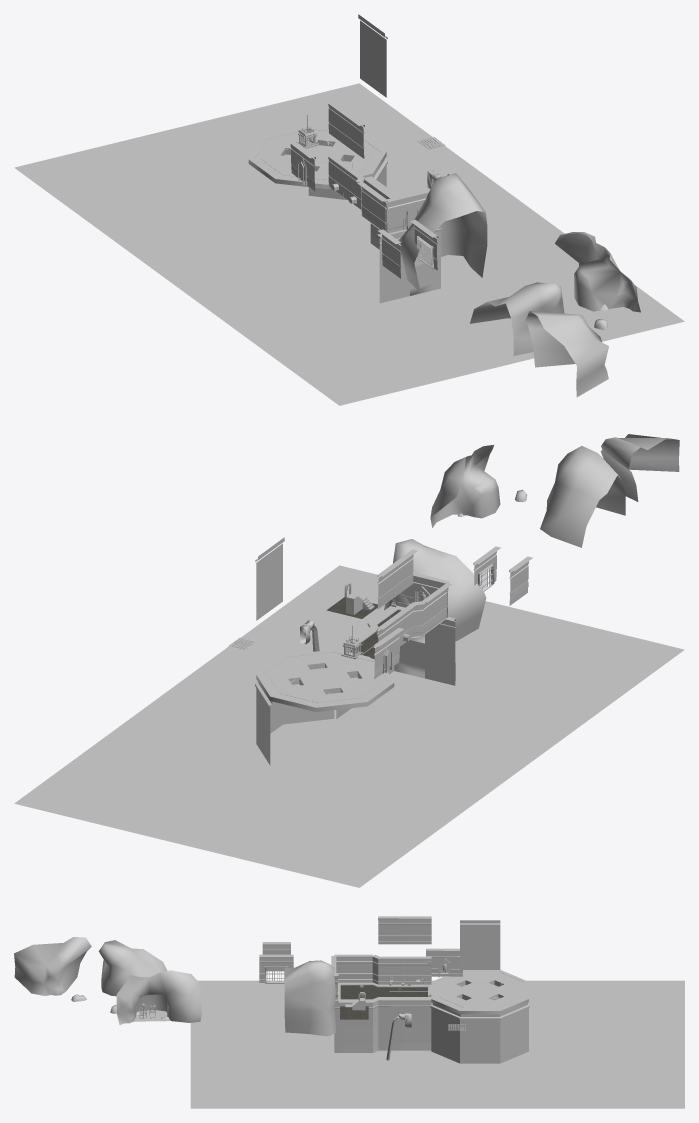
Rendered from S7_3d_dilao_qiang_001.FBX.
3 renders of one model, top to bottom at view 1: azimuth 30°, elevation 25°; view 2: azimuth 150°, elevation 25°; view 3: azimuth 270°, elevation 25°, orthographic. The views are drawn at different scales.
Visible parts, largest first — view 1: S7_3d_dilao_dimian_005, S7_3d_dilao_shitou_001, S7_3d_dilao_shitou_002, S7_3d_dilao_ditai_001, S7_3d_dilao_shitou_006, S7_3d_dilao_shitou_003, S7_3d_dilao_qiang_001, S7_3d_dilao_qiang_013, S7_3d_dilao_qiang_012, S7_3d_dilao_qiang_011, S7_3d_dilao_qiang_003, S7_3d_dilao_qiang_010 (+3 smaller); view 2: S7_3d_dilao_dimian_005, S7_3d_dilao_ditai_001, S7_3d_dilao_shitou_003, S7_3d_dilao_shitou_001, S7_3d_dilao_shitou_006, S7_3d_dilao_qiang_001, S7_3d_dilao_shitou_002, S7_3d_dilao_qiang_009 (×2), S7_3d_dilao_qiang_013, S7_3d_dilao_qiang_012, S7_3d_dilao_qiang_003, S7_3d_dilao_qiang_005 (+3 smaller); view 3: S7_3d_dilao_dimian_005, S7_3d_dilao_qiang_009 (×2), S7_3d_dilao_qiang_001, S7_3d_dilao_shitou_006, S7_3d_dilao_ditai_001, S7_3d_dilao_shitou_001, S7_3d_dilao_shitou_002, S7_3d_dilao_shitou_003, S7_3d_dilao_qiang_013, S7_3d_dilao_qiang_003, S7_3d_dilao_qiang_012, S7_3d_dilao_qiang_010 (+5 smaller).
Boxes of the visible parts, <box> form: S7_3d_dilao_dimian_005: <box>14,83,684,405</box>; S7_3d_dilao_shitou_001: <box>398,173,487,292</box>; S7_3d_dilao_shitou_002: <box>525,311,608,397</box>; S7_3d_dilao_ditai_001: <box>248,126,386,189</box>; S7_3d_dilao_shitou_006: <box>555,232,640,312</box>; S7_3d_dilao_shitou_003: <box>470,282,564,355</box>; S7_3d_dilao_qiang_001: <box>369,176,441,303</box>; S7_3d_dilao_qiang_013: <box>358,14,387,97</box>; S7_3d_dilao_qiang_012: <box>324,99,364,158</box>; S7_3d_dilao_qiang_011: <box>385,188,430,233</box>; S7_3d_dilao_qiang_003: <box>324,152,364,215</box>; S7_3d_dilao_qiang_010: <box>357,182,387,232</box>; S7_3d_dilao_dimian_005: <box>14,565,684,887</box>; S7_3d_dilao_ditai_001: <box>256,649,394,712</box>; S7_3d_dilao_shitou_003: <box>540,446,625,547</box>; S7_3d_dilao_shitou_001: <box>384,539,486,641</box>; S7_3d_dilao_shitou_006: <box>430,445,500,527</box>; S7_3d_dilao_qiang_001: <box>336,606,455,718</box>; S7_3d_dilao_shitou_002: <box>600,434,679,501</box>; S7_3d_dilao_qiang_009 (×2): <box>255,556,532,765</box>; S7_3d_dilao_qiang_013: <box>255,537,284,620</box>; S7_3d_dilao_qiang_012: <box>377,549,417,609</box>; S7_3d_dilao_qiang_003: <box>377,601,424,645</box>; S7_3d_dilao_qiang_005: <box>373,628,403,679</box>; S7_3d_dilao_dimian_005: <box>190,980,684,1108</box>; S7_3d_dilao_qiang_009 (×2): <box>262,942,529,1063</box>; S7_3d_dilao_qiang_001: <box>334,999,431,1052</box>; S7_3d_dilao_shitou_006: <box>116,970,201,1024</box>; S7_3d_dilao_ditai_001: <box>431,970,528,1014</box>; S7_3d_dilao_shitou_001: <box>284,960,336,1036</box>; S7_3d_dilao_shitou_002: <box>14,937,91,995</box>; S7_3d_dilao_shitou_003: <box>98,940,167,996</box>; S7_3d_dilao_qiang_013: <box>460,920,500,969</box>; S7_3d_dilao_qiang_003: <box>372,955,431,984</box>; S7_3d_dilao_qiang_012: <box>378,916,431,944</box>; S7_3d_dilao_qiang_010: <box>334,954,372,982</box>.
Bounding box in the file's own units: 113 × 58.68 × 250.
